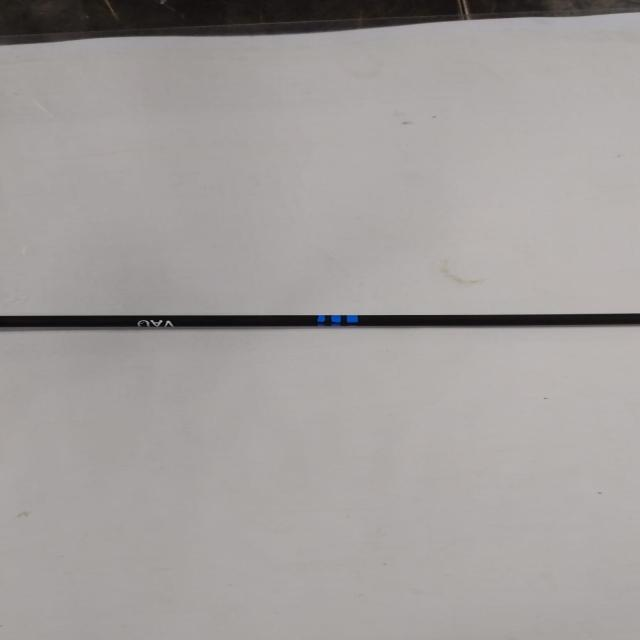blue: (319, 314, 360, 328)
